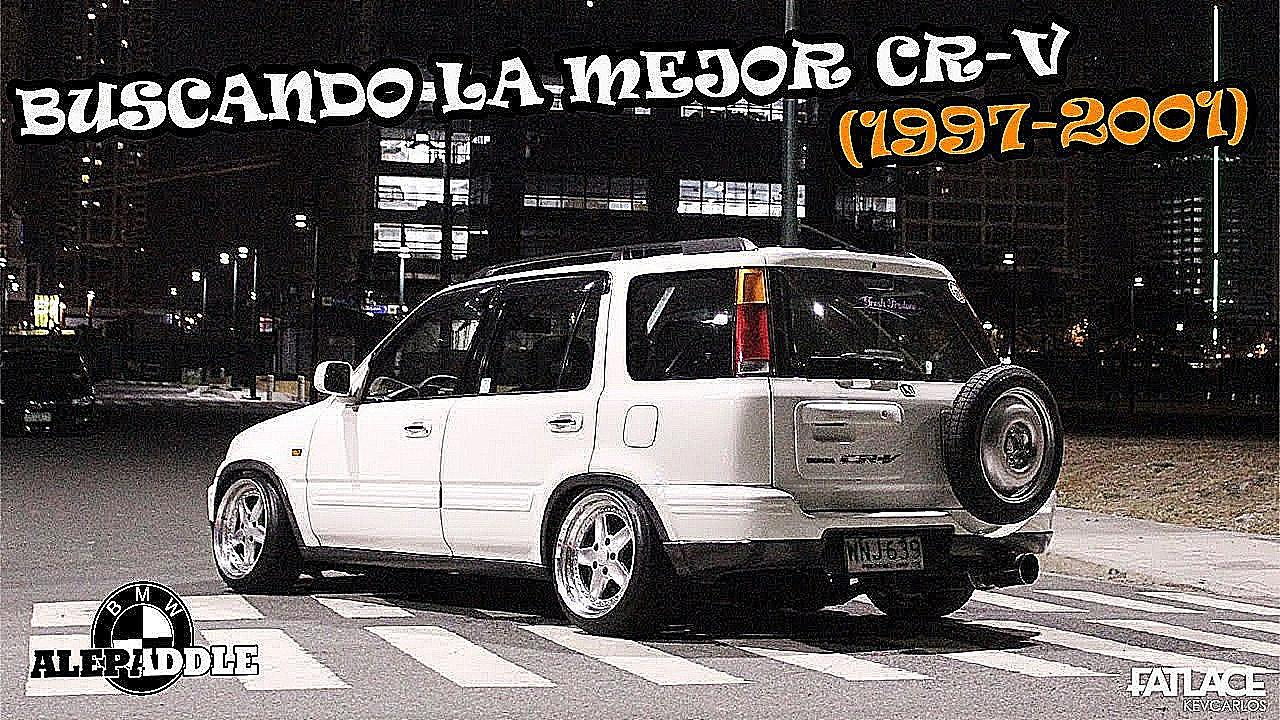Car boot: (766, 242, 1012, 509)
Fender - -F-L-: (218, 392, 334, 571)
Passenger-s door - -F-L-: (306, 293, 477, 550)
Passenger-s door - -R-L-: (463, 264, 610, 562)
Rear bumper: (641, 484, 1056, 600)
Rear light - -L-: (724, 258, 790, 402)
Side bumper - -L-: (290, 538, 566, 588)
Side mirror - -L-: (302, 346, 370, 411)
